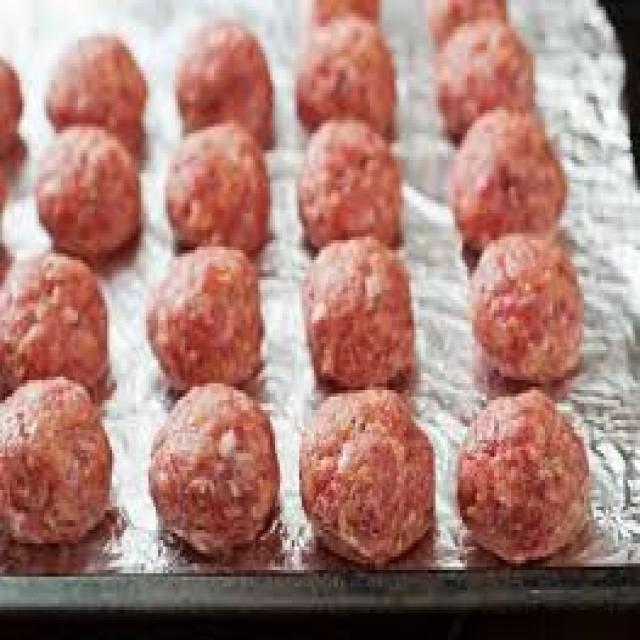Meatball: (139, 377, 288, 565), (443, 386, 592, 564), (301, 386, 444, 568), (456, 232, 600, 406), (0, 371, 120, 557), (289, 226, 423, 380), (138, 240, 272, 384), (0, 249, 116, 389)
